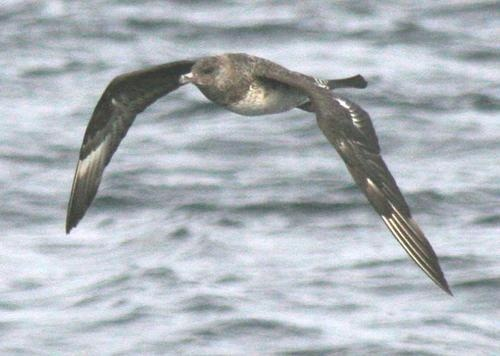bird: (62, 52, 452, 296)
